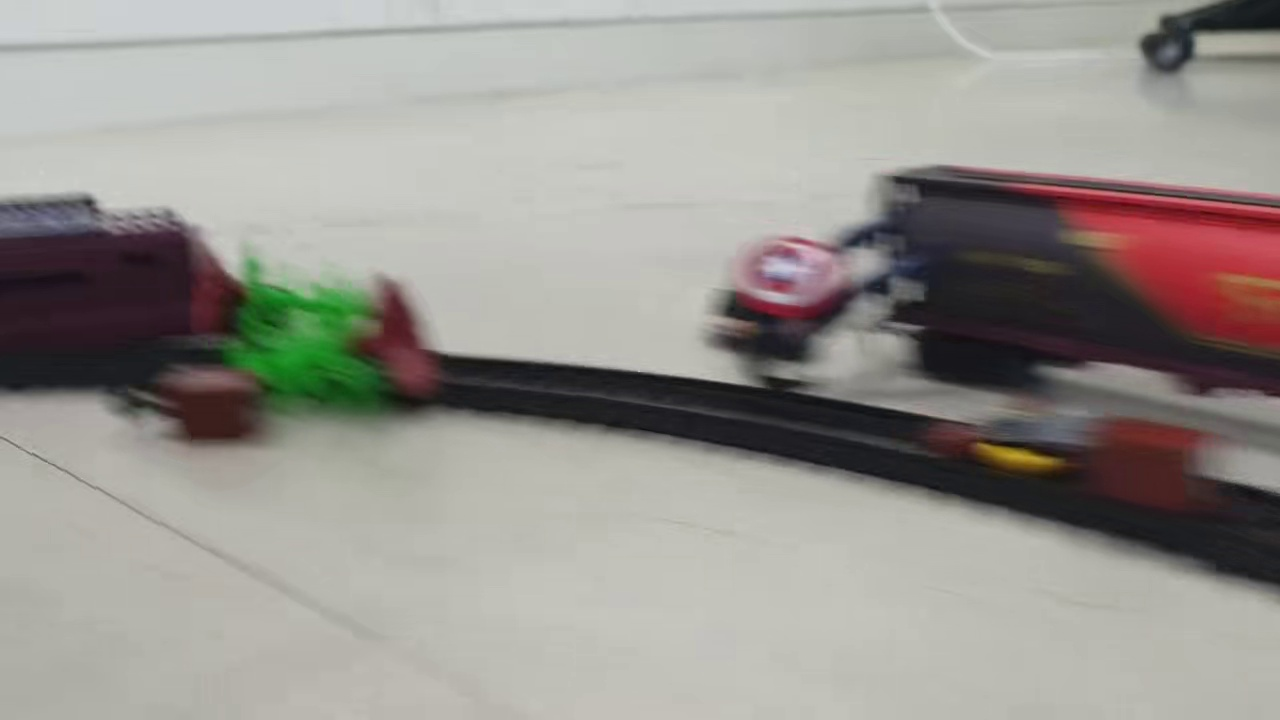box: (1083, 413, 1208, 508), (177, 369, 268, 445)
people: (706, 202, 928, 394), (926, 407, 1097, 483)
tree: (218, 271, 434, 419), (195, 241, 392, 349)
